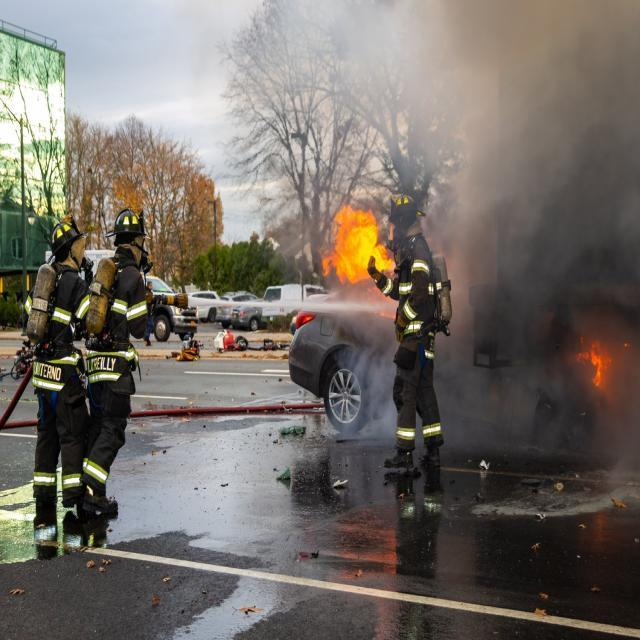Fire: (320, 202, 395, 288), (576, 336, 612, 386)
Smoke: (334, 4, 640, 457)
